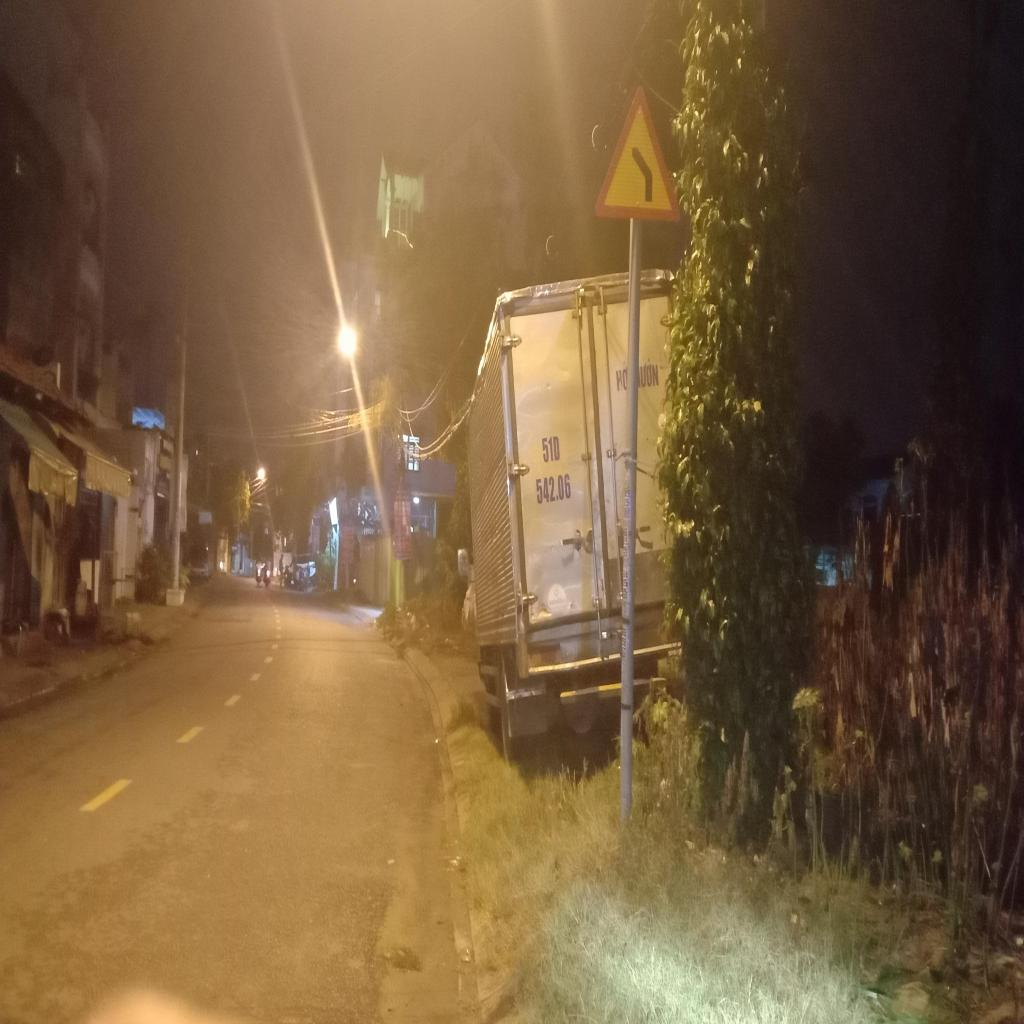cho_ngoat_nguy_hiem_ben_trai: (592, 79, 684, 222)
